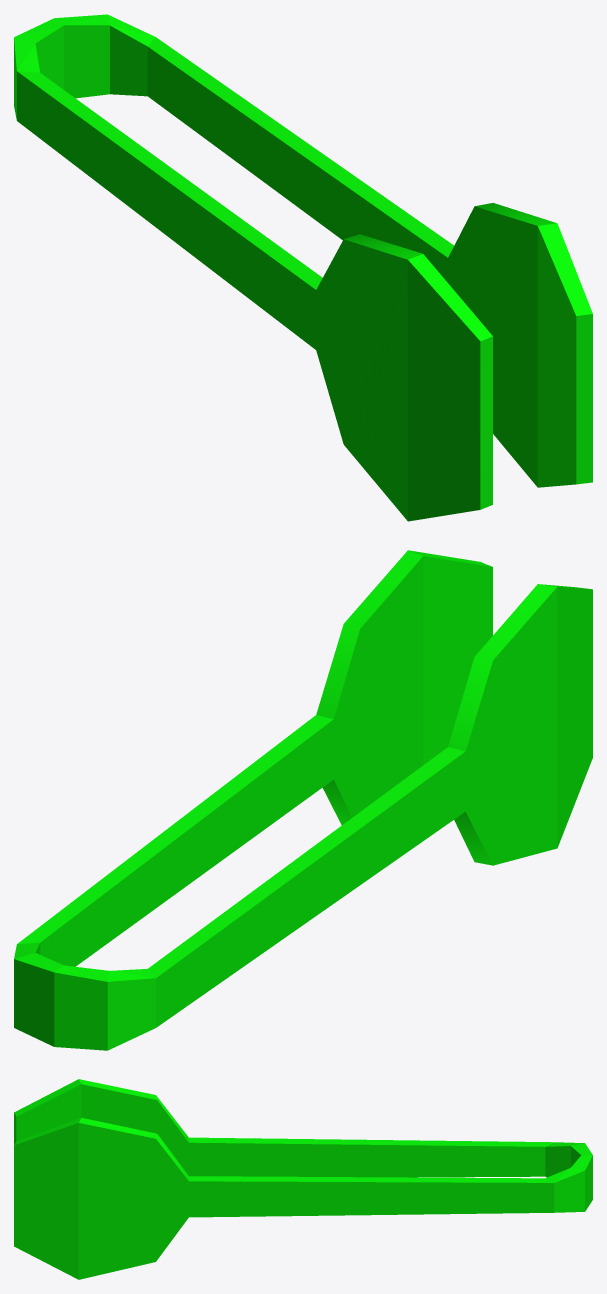
File: SM_KitchenTool_15_Collider.fbx
3 views of the same model, one above another, from view 1: azimuth 30°, elevation 25°; view 2: azimuth 150°, elevation 25°; view 3: azimuth 270°, elevation 25° (orthographic). The views are drawn at different scales.
Visible parts, largest first — view 1: SM_KitchenTool_15_Collider; view 2: SM_KitchenTool_15_Collider; view 3: SM_KitchenTool_15_Collider.
Part boxes in pixels (<box>): SM_KitchenTool_15_Collider: <box>14,14,592,521</box>; SM_KitchenTool_15_Collider: <box>14,550,592,1050</box>; SM_KitchenTool_15_Collider: <box>14,1079,592,1279</box>.
Size of the model in its own units: 7.28 by 12.17 by 40.67.
